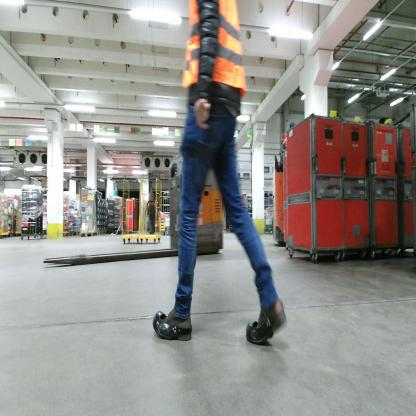pallet_truck: (35, 138, 241, 282), (265, 146, 298, 263)
